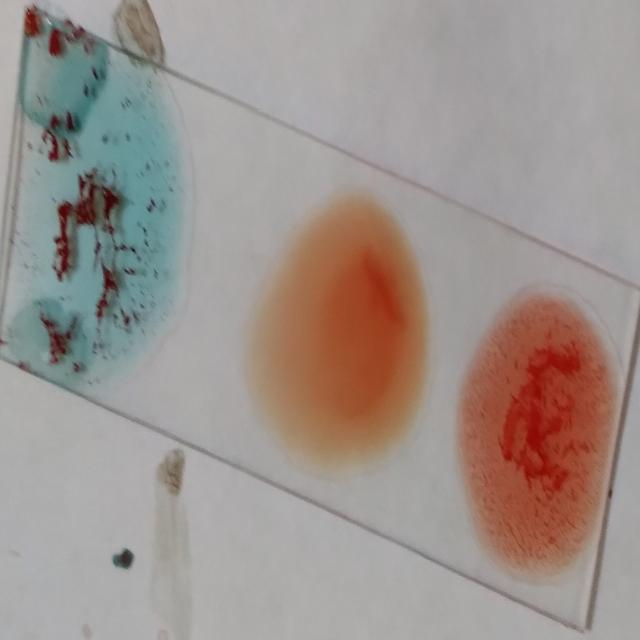A: (14, 65, 179, 367)
D: (473, 283, 602, 559)
